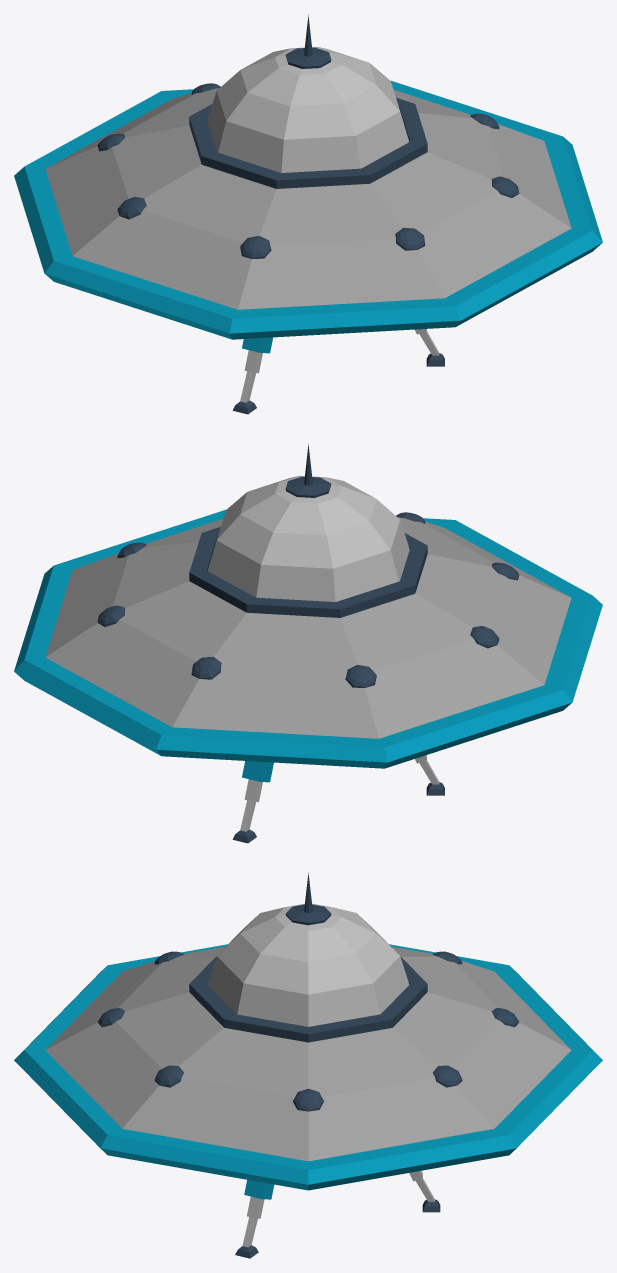
Rendered from ufo.glb.
3 renders of one model, top to bottom at view 1: azimuth 30°, elevation 25°; view 2: azimuth 150°, elevation 25°; view 3: azimuth 270°, elevation 25°, orthographic. The views are drawn at different scales.
Parts seen in each view (by area): view 1: buffer-0-mesh-0_1, buffer-0-mesh-0_0, buffer-0-mesh-0_3, buffer-0-mesh-0_2; view 2: buffer-0-mesh-0_1, buffer-0-mesh-0_0, buffer-0-mesh-0_3, buffer-0-mesh-0_2; view 3: buffer-0-mesh-0_1, buffer-0-mesh-0_0, buffer-0-mesh-0_3, buffer-0-mesh-0_2.
Boxes of the visible parts, x1=… form: buffer-0-mesh-0_1: x1=45, y1=88, x2=571, y2=309; buffer-0-mesh-0_0: x1=14, y1=80, x2=602, y2=353; buffer-0-mesh-0_3: x1=207, y1=46, x2=439, y2=402; buffer-0-mesh-0_2: x1=97, y1=14, x2=519, y2=414; buffer-0-mesh-0_1: x1=45, y1=517, x2=571, y2=738; buffer-0-mesh-0_0: x1=14, y1=509, x2=602, y2=782; buffer-0-mesh-0_3: x1=208, y1=475, x2=439, y2=831; buffer-0-mesh-0_2: x1=97, y1=443, x2=519, y2=843; buffer-0-mesh-0_1: x1=45, y1=946, x2=571, y2=1161; buffer-0-mesh-0_0: x1=14, y1=944, x2=602, y2=1199; buffer-0-mesh-0_3: x1=207, y1=903, x2=434, y2=1247; buffer-0-mesh-0_2: x1=97, y1=872, x2=519, y2=1258.
Size of the model in its own units: 4.48 by 2.82 by 4.48.
